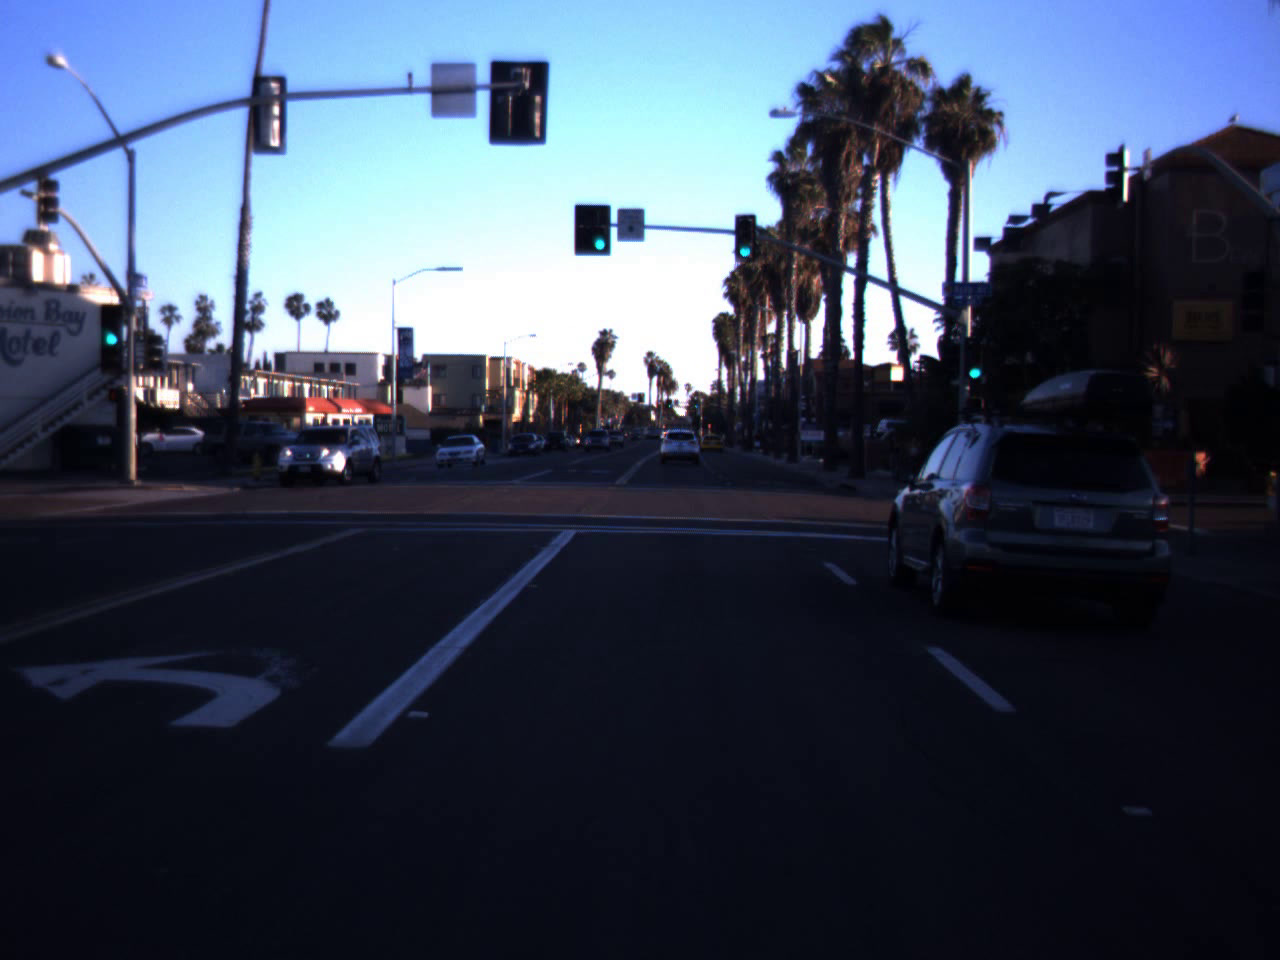go: (98, 299, 125, 349), (959, 342, 990, 382), (588, 208, 612, 253), (730, 224, 760, 259)
